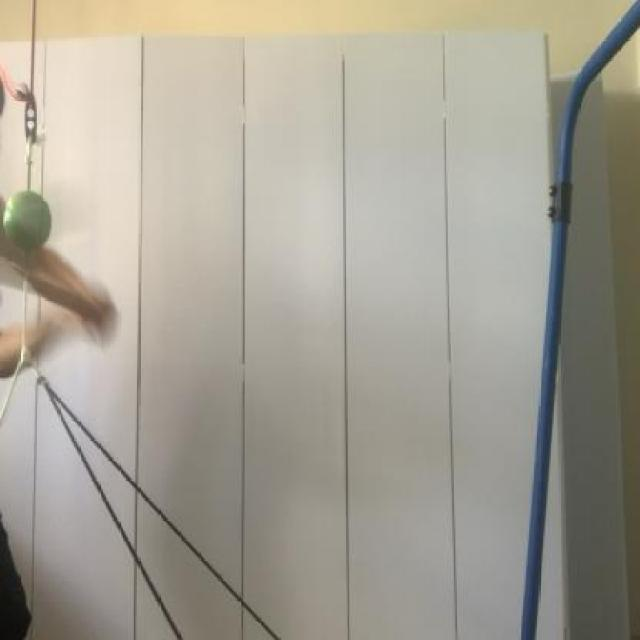baseball: (0, 183, 57, 260)
